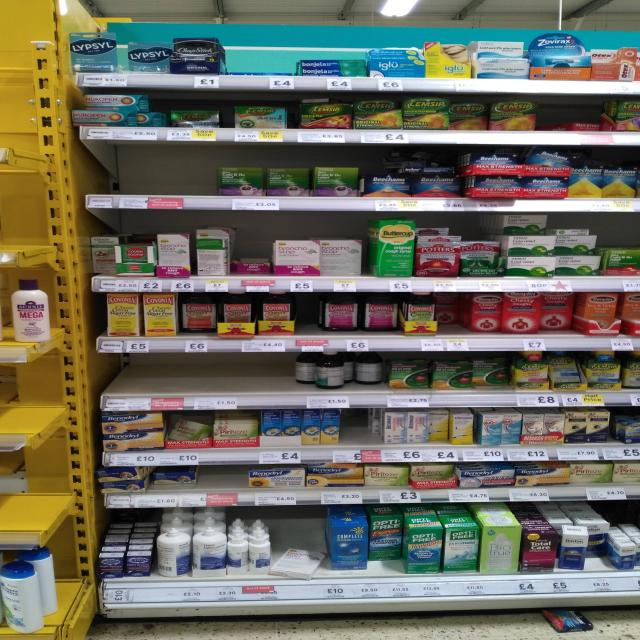void: (217, 38, 294, 88), (172, 141, 224, 214), (229, 219, 271, 293), (78, 143, 124, 209), (126, 140, 170, 208), (5, 364, 53, 422), (6, 456, 49, 516), (90, 352, 134, 410), (182, 351, 221, 414), (140, 353, 177, 414), (4, 186, 38, 250), (197, 464, 244, 508), (225, 355, 259, 411), (262, 350, 294, 408), (296, 292, 323, 359), (352, 411, 381, 466), (613, 410, 640, 459), (543, 98, 565, 143)
